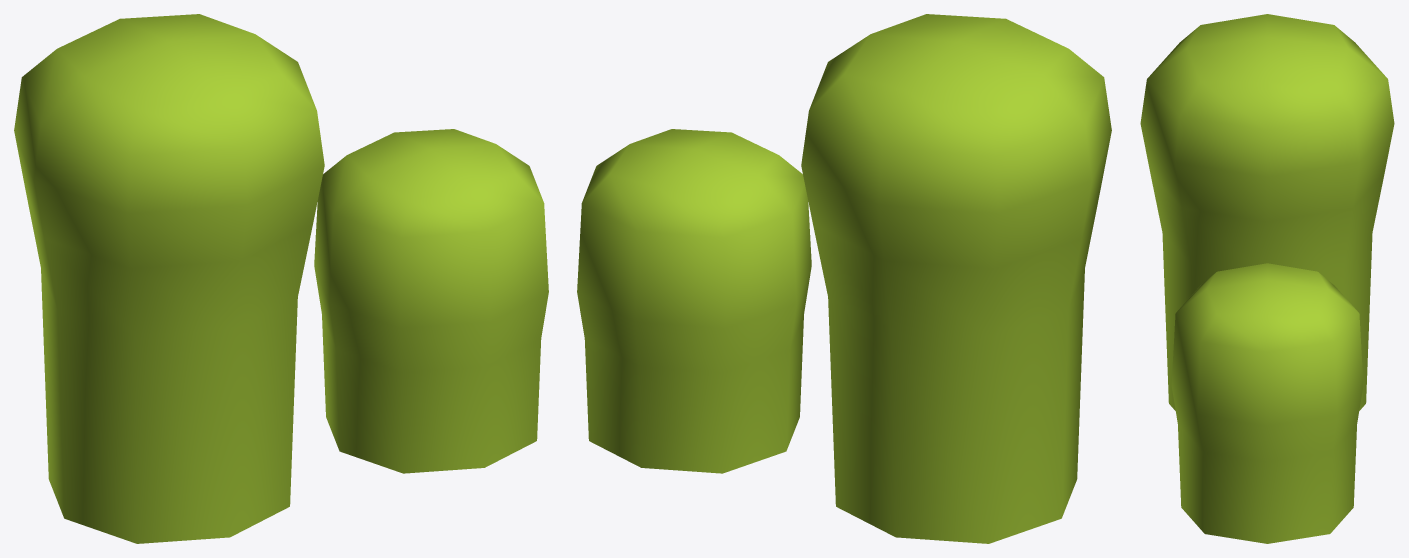
File: Grass_12.fbx
The picture shows the model from 3 angles, left to right: view 1: azimuth 30°, elevation 25°; view 2: azimuth 150°, elevation 25°; view 3: azimuth 270°, elevation 25°; orthographic projection. The views are drawn at different scales.
Parts seen in each view (by area): view 1: Grass_12; view 2: Grass_12; view 3: Grass_12.
Part boxes in pixels (box(x1,y1,x2,y2)): Grass_12: box(14, 14, 548, 543); Grass_12: box(577, 14, 1111, 543); Grass_12: box(1140, 14, 1394, 543).
Size of the model in its own units: 53.15 by 45.83 by 28.8.
